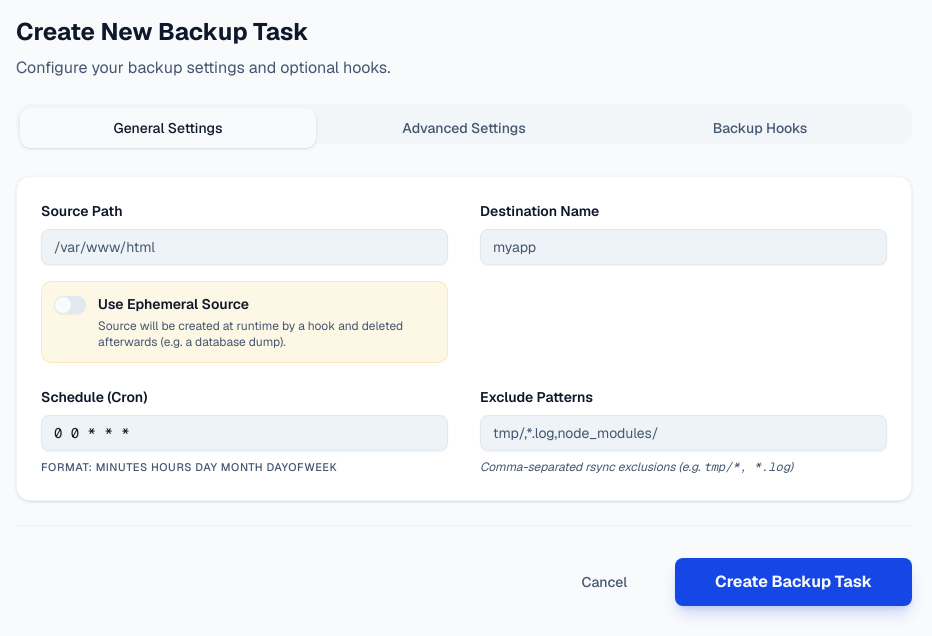
Scenario: CreateBackupForm › Rendering › renders the form with all fields
Expected: the heading "Create New Backup Task" is shown, [16,16,309,47]
Expected: the field labelled "Source Path" is shown, [41,229,448,265]
Check Advanced tab content
Click the tab "Advanced Settings": (464, 128) [316,108,612,148]
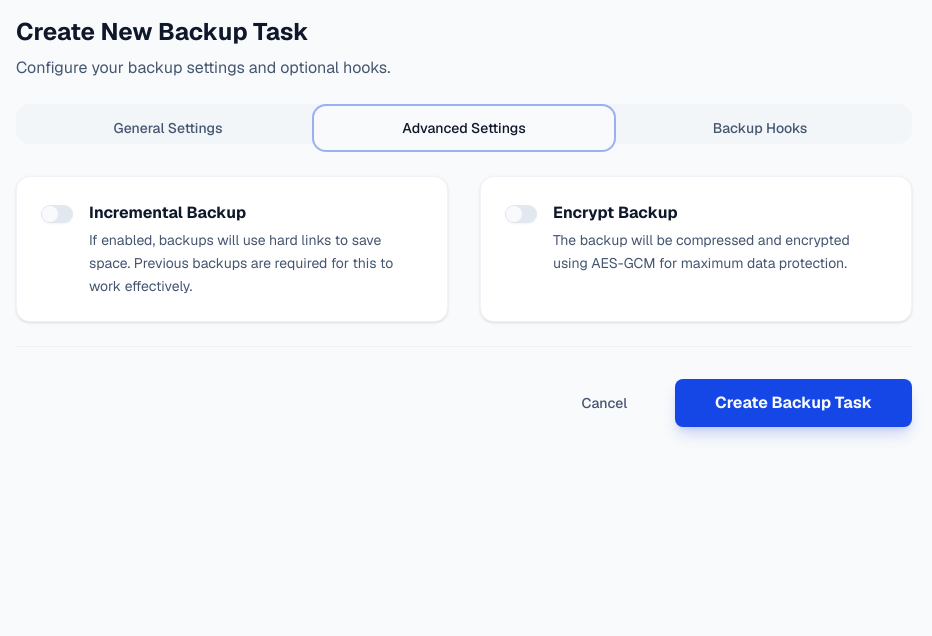
Expected: the button "Create Backup Task" is shown, [675,379,912,427]
Result: the switch named "incremental backup" next to "Incremental Backup" is shown at [41,205,73,223]
Result: the switch named "encrypt backup" next to "Encrypt Backup" is shown at [505,205,537,223]
